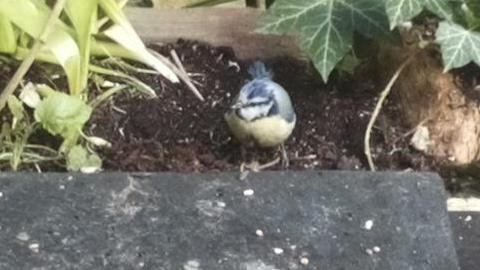blue tit: (224, 60, 296, 171)
